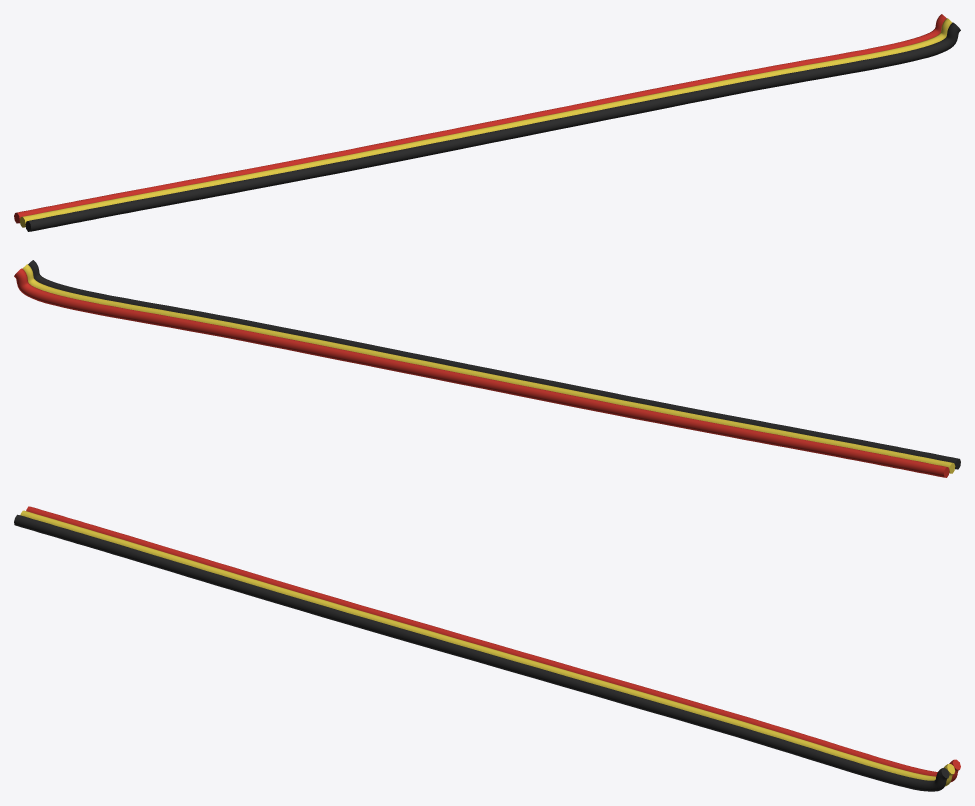
The model's file is leads.glb.
3 views of the same model, one above another, from view 1: azimuth 30°, elevation 25°; view 2: azimuth 150°, elevation 25°; view 3: azimuth 330°, elevation 25° (orthographic).
Visible parts, largest first — view 1: leads; view 2: leads; view 3: leads.
Part boxes in pixels (bbox=[...]): leads: bbox=[14, 14, 960, 231]; leads: bbox=[14, 260, 960, 477]; leads: bbox=[14, 506, 960, 791].
Size of the model in its own units: 148 by 8.43 by 4.72.
